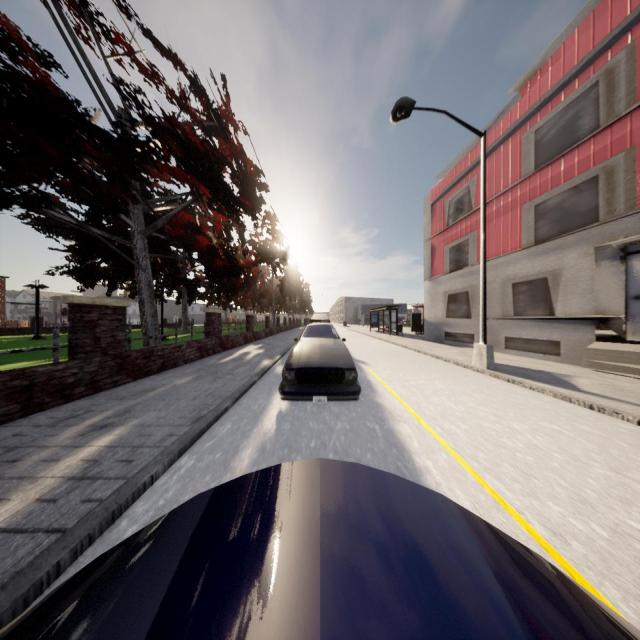Vehicle: (0, 457, 640, 640), (279, 324, 361, 399), (310, 313, 330, 323)
